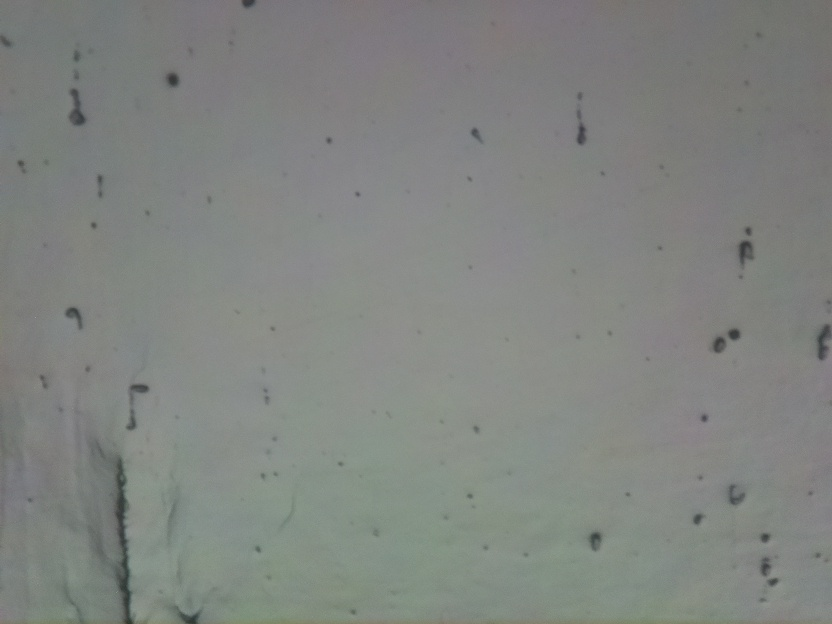crack: (102, 454, 137, 624)
